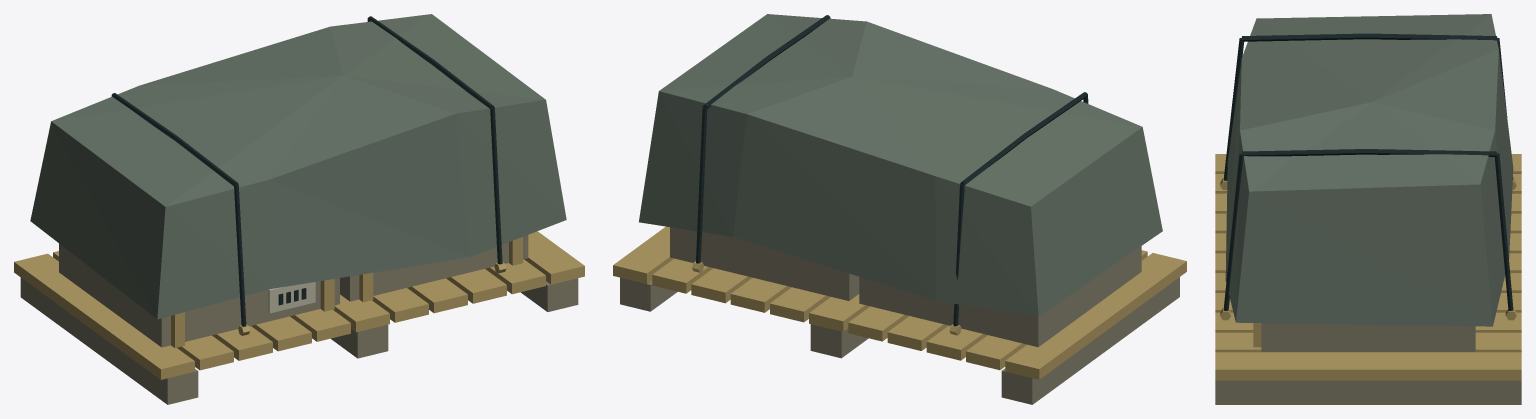
The model's file is v116-yard-freight-tarp.glb.
The picture shows the model from 3 angles, left to right: view 1: azimuth 30°, elevation 25°; view 2: azimuth 150°, elevation 25°; view 3: azimuth 270°, elevation 25°; orthographic projection. The views are drawn at different scales.
Visible parts, largest first — view 1: freight-tarp; view 2: freight-tarp; view 3: freight-tarp.
Part boxes in pixels (x1,y1,x2,y2): freight-tarp: (14, 14, 584, 404); freight-tarp: (613, 14, 1186, 404); freight-tarp: (1215, 14, 1521, 404).
Size of the model in its own units: 2.5 by 1.2 by 1.5.
